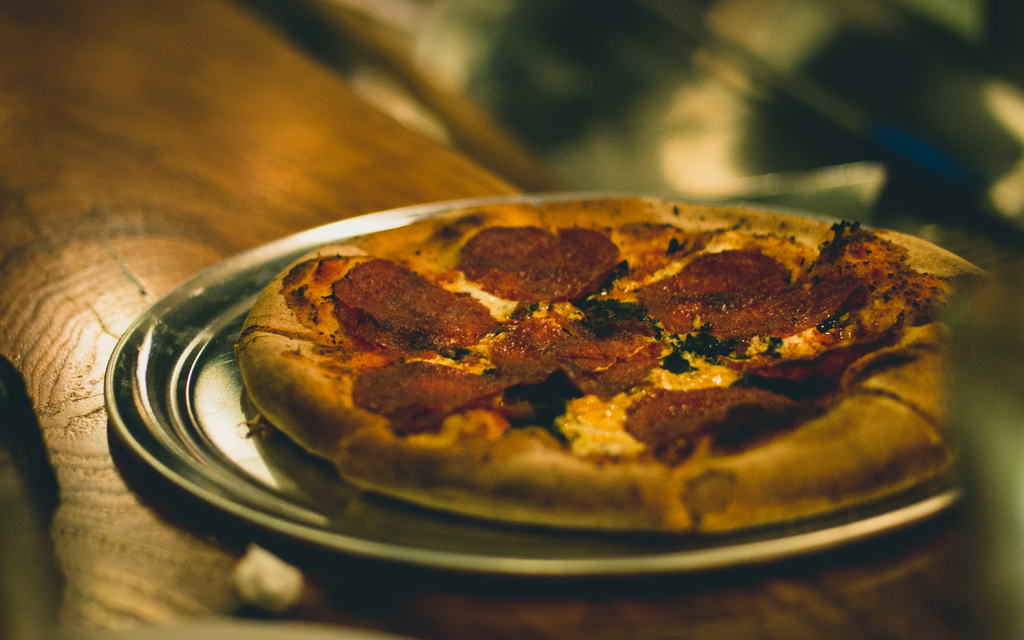Pizza: (241, 184, 1011, 551)
